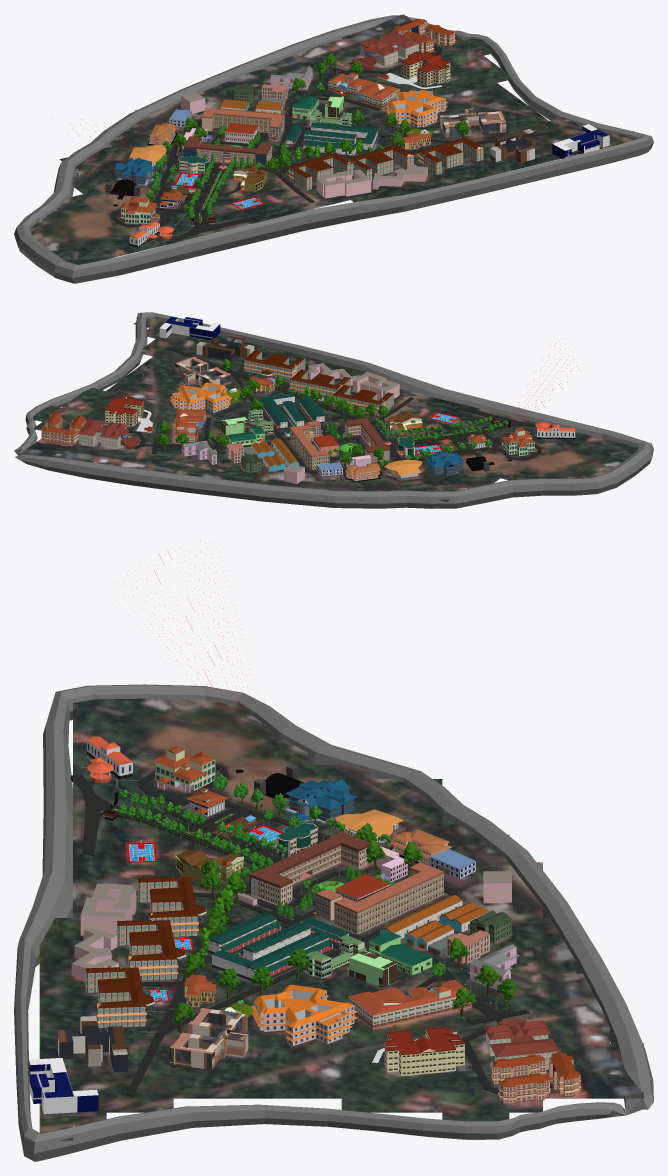
3 views of the same model, one above another, from view 1: azimuth 30°, elevation 25°; view 2: azimuth 150°, elevation 25°; view 3: azimuth 270°, elevation 25° (orthographic). The views are drawn at different scales.
Visible parts, largest first — view 1: Bake, Basketball Court.042, Plane.004, map.osm_buildings.008, IMP_DB, IMP_MB, map.osm_buildings.104, map.osm_buildings.029, map.osm_buildings.021, IMP_CHEM, Terrain.004, map.osm_buildings.009 (+15 smaller); view 2: Bake, Basketball Court.042, Plane.004, map.osm_buildings.008, IMP_DB, IMP_MB, map.osm_buildings.104, map.osm_buildings.021, map.osm_buildings.029, map.osm_buildings.045, IMP_CHEM, map.osm_buildings.009 (+16 smaller); view 3: Bake, Basketball Court.042, Plane.004, map.osm_buildings.008, IMP_MB, IMP_DB, map.osm_buildings.104, map.osm_buildings.021, map.osm_buildings.029, map.osm_buildings.009, Terrain.004, map.osm_buildings.045 (+16 smaller).
Part boxes in pixels (x1=…): Bake: x1=30, y1=14, x2=636, y2=264; Basketball Court.042: x1=14, y1=15, x2=653, y2=283; Plane.004: x1=110, y1=45, x2=559, y2=243; map.osm_buildings.008: x1=288, y1=137, x2=484, y2=190; IMP_DB: x1=140, y1=108, x2=535, y2=247; IMP_MB: x1=184, y1=108, x2=506, y2=165; map.osm_buildings.104: x1=181, y1=92, x2=427, y2=198; map.osm_buildings.029: x1=285, y1=122, x2=378, y2=157; map.osm_buildings.021: x1=121, y1=99, x2=354, y2=223; IMP_CHEM: x1=352, y1=31, x2=419, y2=69; Terrain.004: x1=386, y1=18, x2=455, y2=89; map.osm_buildings.009: x1=386, y1=90, x2=447, y2=127; Bake: x1=21, y1=318, x2=638, y2=501; Basketball Court.042: x1=14, y1=312, x2=653, y2=508; Plane.004: x1=64, y1=347, x2=552, y2=473; map.osm_buildings.008: x1=243, y1=349, x2=393, y2=415; IMP_DB: x1=196, y1=334, x2=536, y2=468; IMP_MB: x1=175, y1=356, x2=390, y2=460; map.osm_buildings.104: x1=283, y1=363, x2=399, y2=483; map.osm_buildings.021: x1=251, y1=419, x2=534, y2=471; map.osm_buildings.029: x1=260, y1=393, x2=325, y2=437; map.osm_buildings.045: x1=159, y1=316, x2=342, y2=476; IMP_CHEM: x1=78, y1=419, x2=139, y2=449; map.osm_buildings.009: x1=170, y1=382, x2=232, y2=412; Bake: x1=39, y1=698, x2=643, y2=1140; Basketball Court.042: x1=14, y1=684, x2=653, y2=1161; Plane.004: x1=71, y1=763, x2=552, y2=1096; map.osm_buildings.008: x1=85, y1=877, x2=206, y2=1027; IMP_MB: x1=169, y1=831, x2=369, y2=1069; IMP_DB: x1=56, y1=756, x2=443, y2=1072; map.osm_buildings.104: x1=71, y1=846, x2=511, y2=979; map.osm_buildings.021: x1=151, y1=746, x2=488, y2=972; map.osm_buildings.029: x1=208, y1=912, x2=349, y2=981; map.osm_buildings.009: x1=251, y1=984, x2=357, y2=1045; Terrain.004: x1=372, y1=1038, x2=581, y2=1104; map.osm_buildings.045: x1=28, y1=849, x2=475, y2=1114.
Size of the model in its own units: 1004 by 221 by 590.
Materials: 183 (73 with a texture image).
